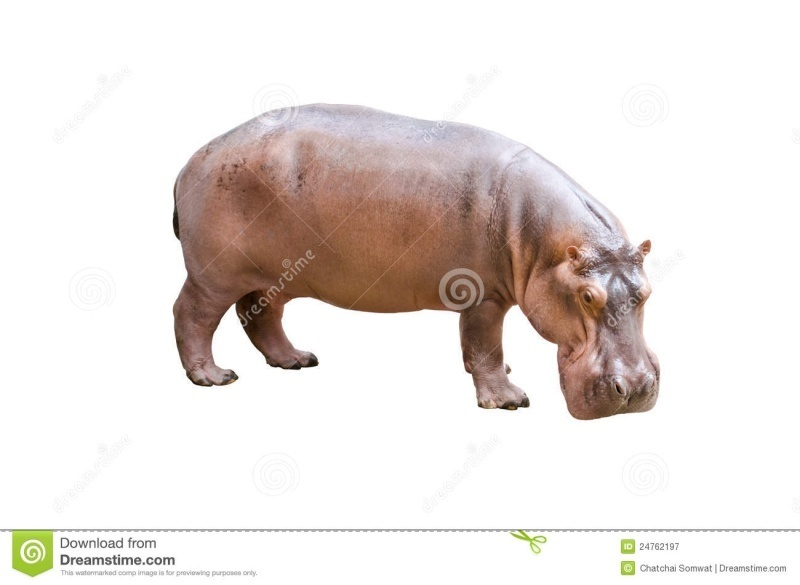hipopotamo: (163, 100, 665, 423)
